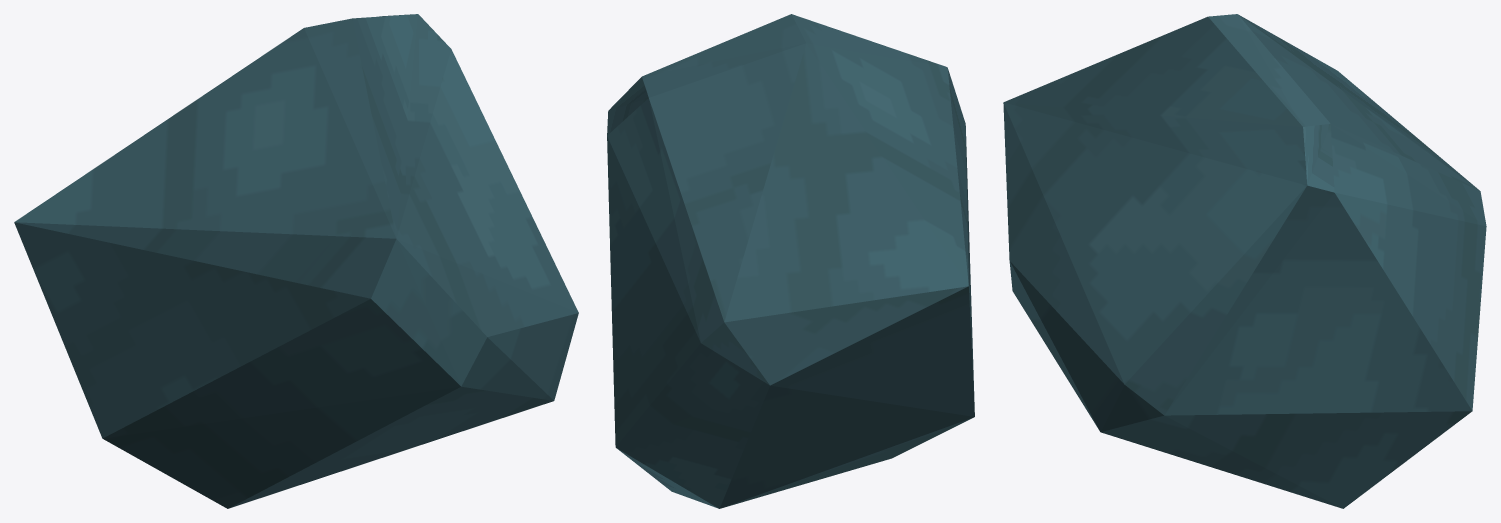
Rendered from CrashRock_C07_04.fbx.
The picture shows the model from 3 angles, left to right: view 1: azimuth 30°, elevation 25°; view 2: azimuth 150°, elevation 25°; view 3: azimuth 270°, elevation 25°; orthographic projection. The views are drawn at different scales.
Parts seen in each view (by area): view 1: CrashRock_C07; view 2: CrashRock_C07; view 3: CrashRock_C07.
Boxes of the visible parts, x1=… form: CrashRock_C07: x1=14, y1=14, x2=578, y2=508; CrashRock_C07: x1=607, y1=14, x2=974, y2=508; CrashRock_C07: x1=1003, y1=14, x2=1486, y2=508.
Bounding box in the file's own units: 0.9962 × 1.05 × 0.9925.
Materials: 1 (1 with a texture image).
